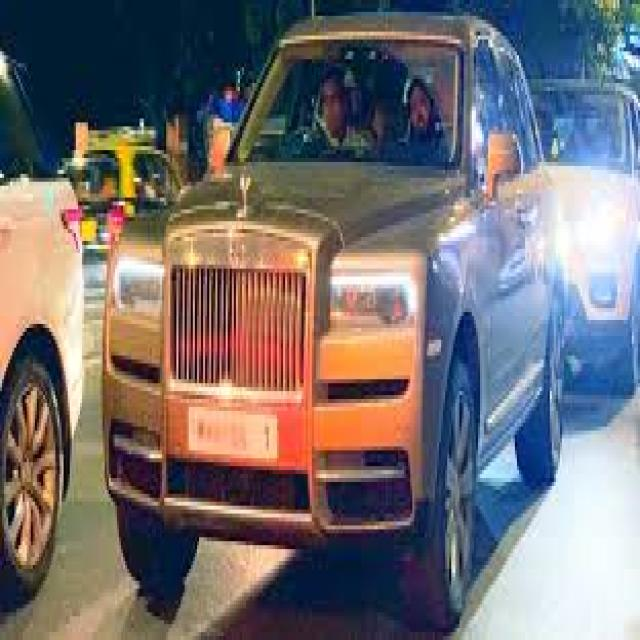SUV: (104, 17, 558, 579)
